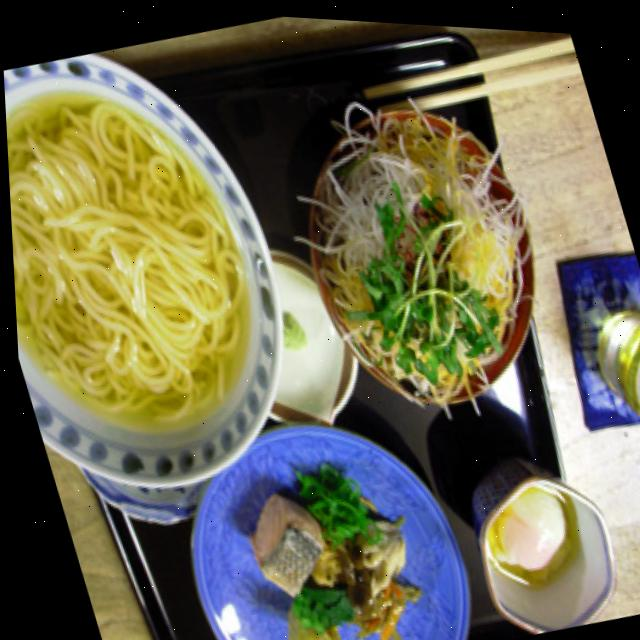面条主食: (1, 25, 307, 490)
